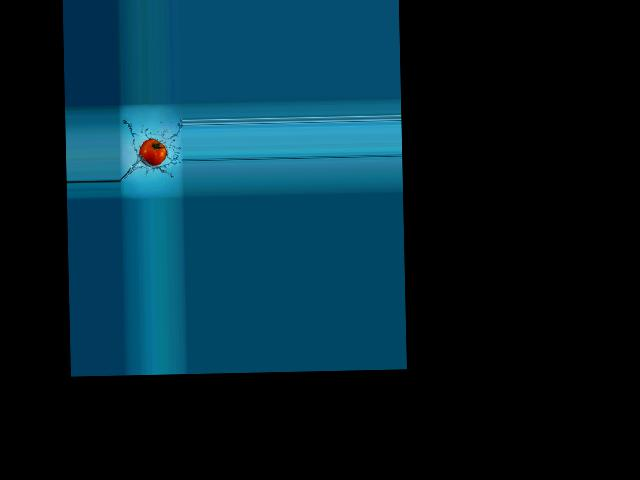tomato: (139, 139, 167, 166)
